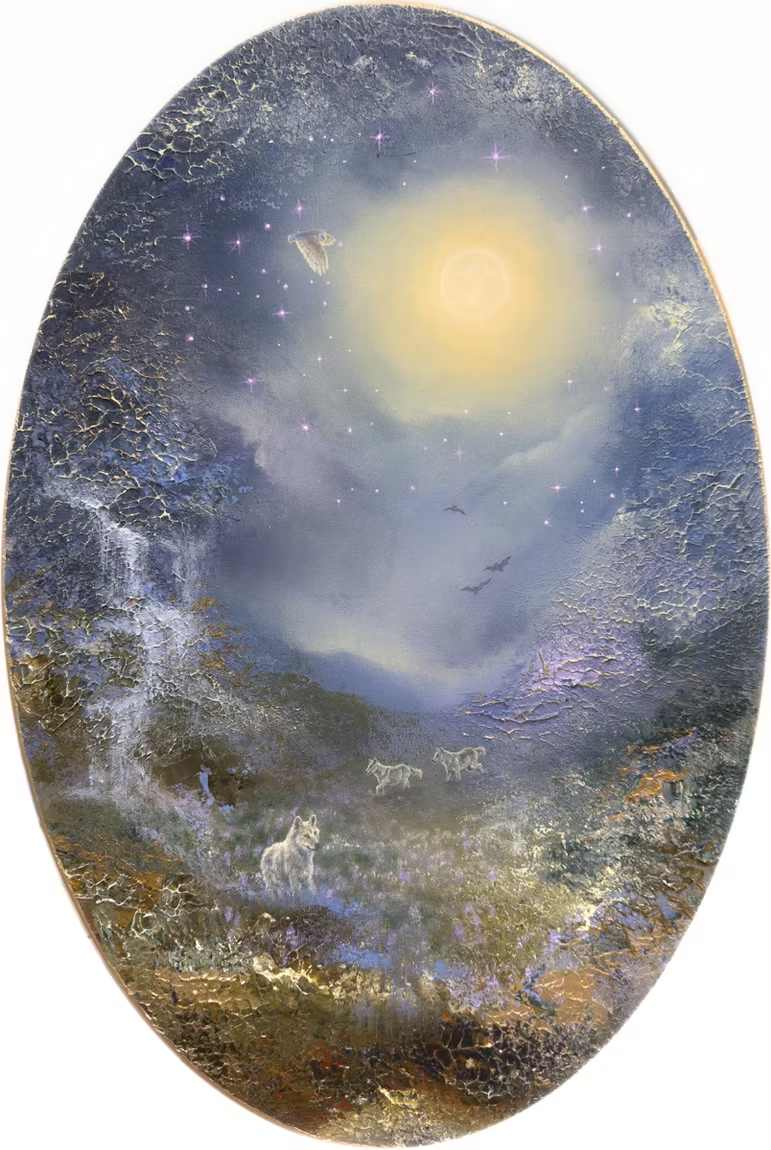painting: (4, 6, 765, 1144)
